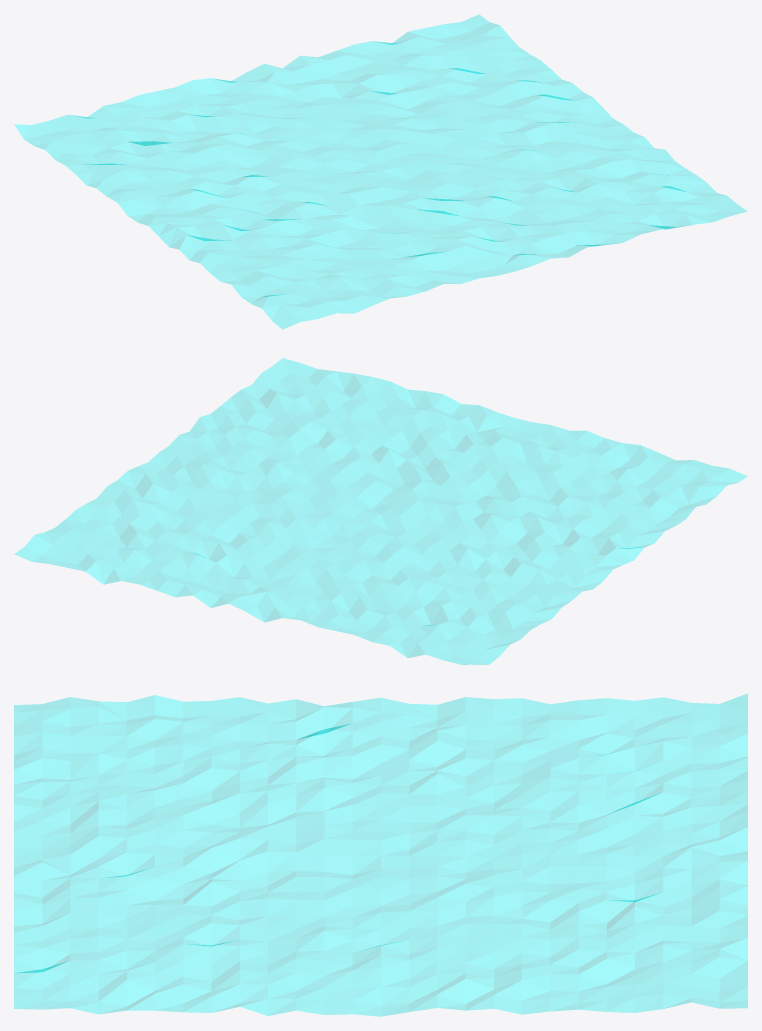
Rendered from Water.6b0b5919.gltf.
3 views of the same model, one above another, from view 1: azimuth 30°, elevation 25°; view 2: azimuth 150°, elevation 25°; view 3: azimuth 270°, elevation 25° (orthographic). The views are drawn at different scales.
Parts seen in each view (by area): view 1: Low Poly Water_0; view 2: Low Poly Water_0; view 3: Low Poly Water_0.
Boxes of the visible parts, bbox=[...] form: Low Poly Water_0: bbox=[14, 14, 747, 329]; Low Poly Water_0: bbox=[14, 358, 747, 664]; Low Poly Water_0: bbox=[14, 693, 747, 1016].
Bounding box in the file's own units: 9.58 × 0.3023 × 9.58.
